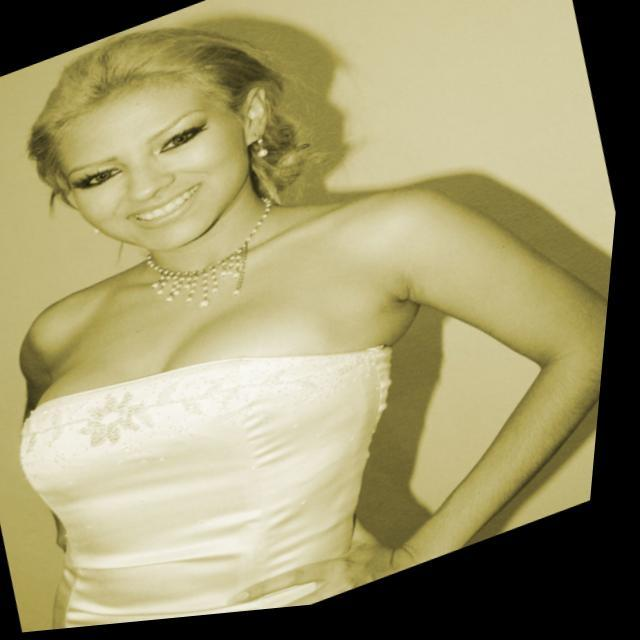Nonhelmet: (24, 25, 318, 254)
